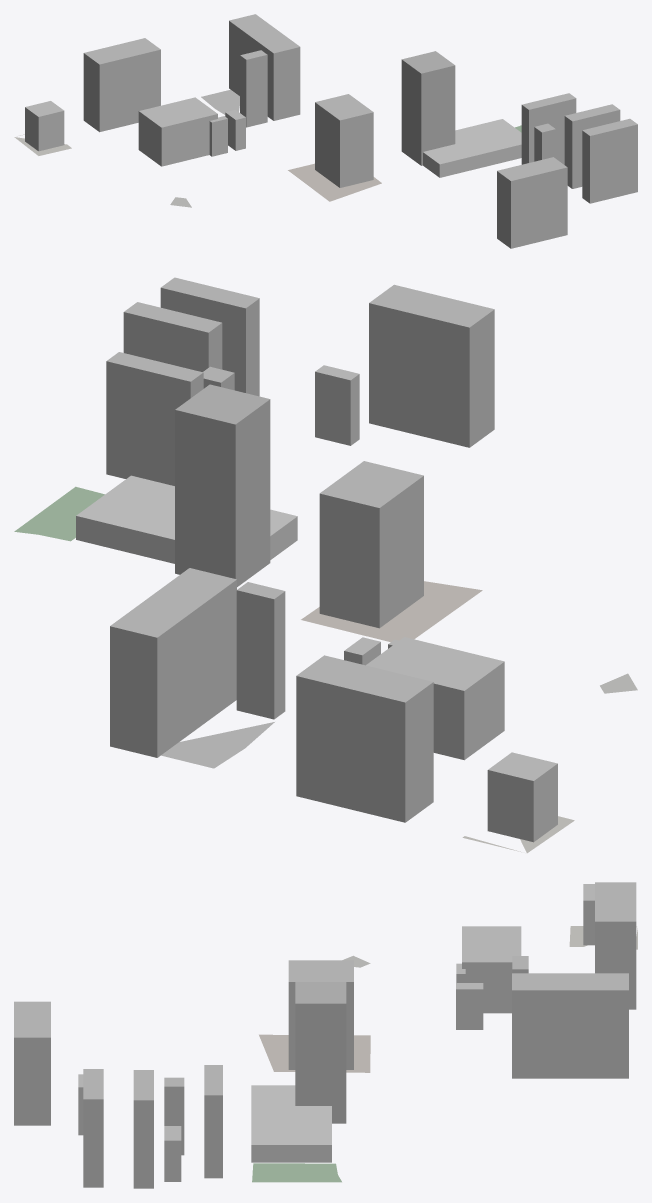
File: 119_102_mid.glb
The picture shows the model from 3 angles, top to bottom: view 1: azimuth 30°, elevation 25°; view 2: azimuth 150°, elevation 25°; view 3: azimuth 270°, elevation 25°; orthographic projection. The views are drawn at different scales.
Bounding box in the file's own units: 480 × 103 × 481.
